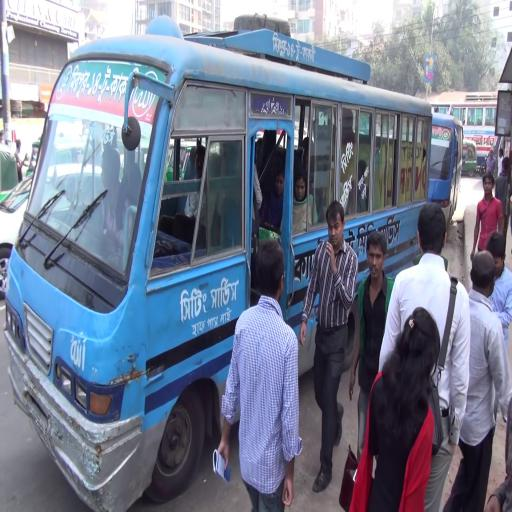bus: (7, 34, 432, 512), (434, 100, 505, 184), (433, 110, 466, 249)
car: (2, 161, 119, 312)
three wheelers (CNG): (1, 139, 22, 202), (462, 140, 481, 182)
